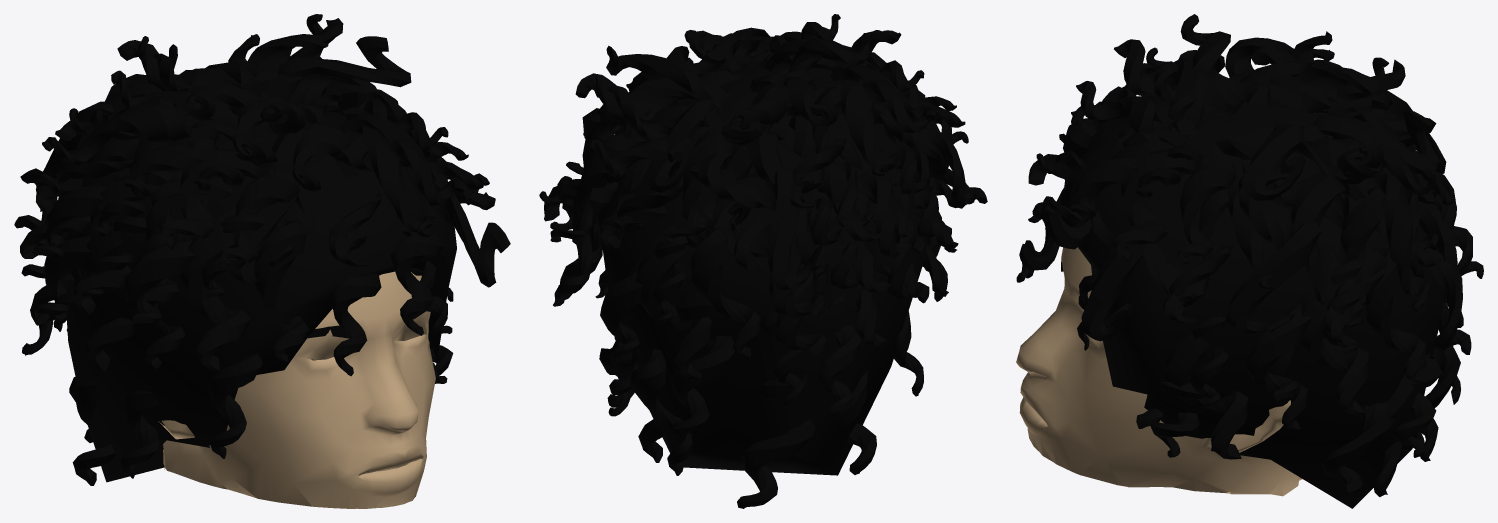
The model's file is Thief_Head.fbx.
3 renders of one model, left to right at view 1: azimuth 30°, elevation 25°; view 2: azimuth 150°, elevation 25°; view 3: azimuth 270°, elevation 25°, orthographic. The views are drawn at different scales.
Visible parts, largest first — view 1: T_Head; view 2: T_Head; view 3: T_Head.
Part boxes in pixels (left/top/right/bottom): T_Head: left=14, top=14, right=510, bottom=508; T_Head: left=539, top=14, right=987, bottom=508; T_Head: left=1016, top=14, right=1483, bottom=508.
Bounding box in the file's own units: 23.39 × 24.57 × 24.08.
